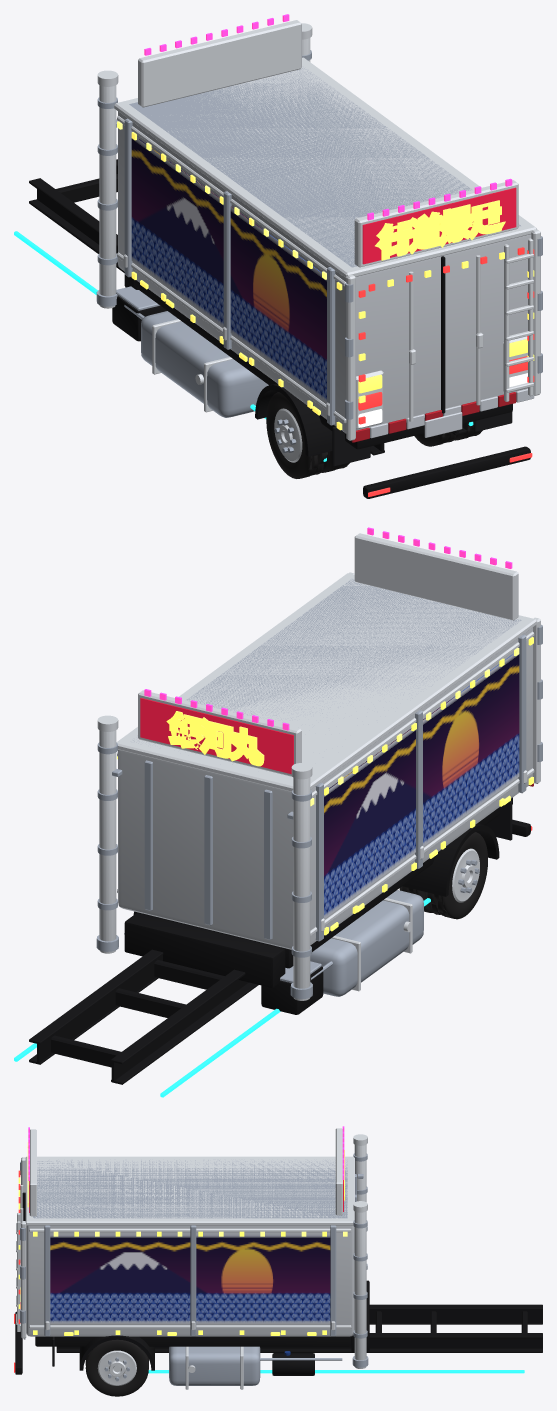
Rendered from body_leve.glb.
3 renders of one model, top to bottom at view 1: azimuth 30°, elevation 25°; view 2: azimuth 150°, elevation 25°; view 3: azimuth 270°, elevation 25°, orthographic. The views are drawn at different scales.
Visible parts, largest first — view 1: truck_chrome, truck_steel, truck_paint_white_panel, truck_mural, truck_plastic_black, truck_lamp_amber, wheel_r_L_1.5_1.06, truck_andon_panel, truck_paint_white, truck_lamp_red, truck_rubber, truck_lamp_pink (+2 smaller); view 2: truck_chrome, truck_steel, truck_paint_white_panel, truck_mural, truck_plastic_black, truck_lamp_amber, truck_andon_panel, wheel_r_L_1.5_1.06, truck_lamp_pink, truck_lamp_cyan; view 3: truck_chrome, truck_mural, truck_steel, truck_plastic_black, truck_paint_white_panel, wheel_r_R_1.5_1.06, truck_lamp_cyan, truck_lamp_amber.
Part boxes in pixels (box(x1,y1,x2,y2)): truck_chrome: box(97, 20, 540, 440); truck_steel: box(96, 50, 542, 425); truck_paint_white_panel: box(118, 111, 531, 433); truck_mural: box(131, 137, 326, 402); truck_plastic_black: box(29, 159, 530, 498); truck_lamp_amber: box(131, 132, 534, 430); wheel_r_L_1.5_1.06: box(266, 392, 329, 478); truck_andon_panel: box(362, 187, 516, 264); truck_paint_white: box(370, 388, 534, 438); truck_lamp_red: box(358, 247, 534, 496); truck_rubber: box(332, 412, 512, 466); truck_lamp_pink: box(144, 14, 512, 220); truck_chrome: box(97, 533, 540, 1000); truck_steel: box(96, 579, 542, 999); truck_paint_white_panel: box(118, 627, 532, 949); truck_mural: box(324, 653, 519, 918); truck_plastic_black: box(29, 797, 530, 1084); truck_lamp_amber: box(166, 637, 533, 935); truck_andon_panel: box(140, 698, 293, 774); wheel_r_L_1.5_1.06: box(424, 832, 487, 919); truck_lamp_pink: box(144, 527, 512, 730); truck_lamp_cyan: box(14, 898, 430, 1097); truck_chrome: box(16, 1128, 367, 1389); truck_mural: box(50, 1234, 330, 1323); truck_steel: box(20, 1153, 368, 1385); truck_plastic_black: box(15, 1192, 542, 1375); truck_paint_white_panel: box(26, 1225, 354, 1336); wheel_r_R_1.5_1.06: box(85, 1339, 148, 1396); truck_lamp_cyan: box(148, 1370, 524, 1373); truck_lamp_amber: box(18, 1142, 344, 1335).
Size of the model in its own units: 2.85 by 3.91 by 8.7.
17 materials, 3 textured.
